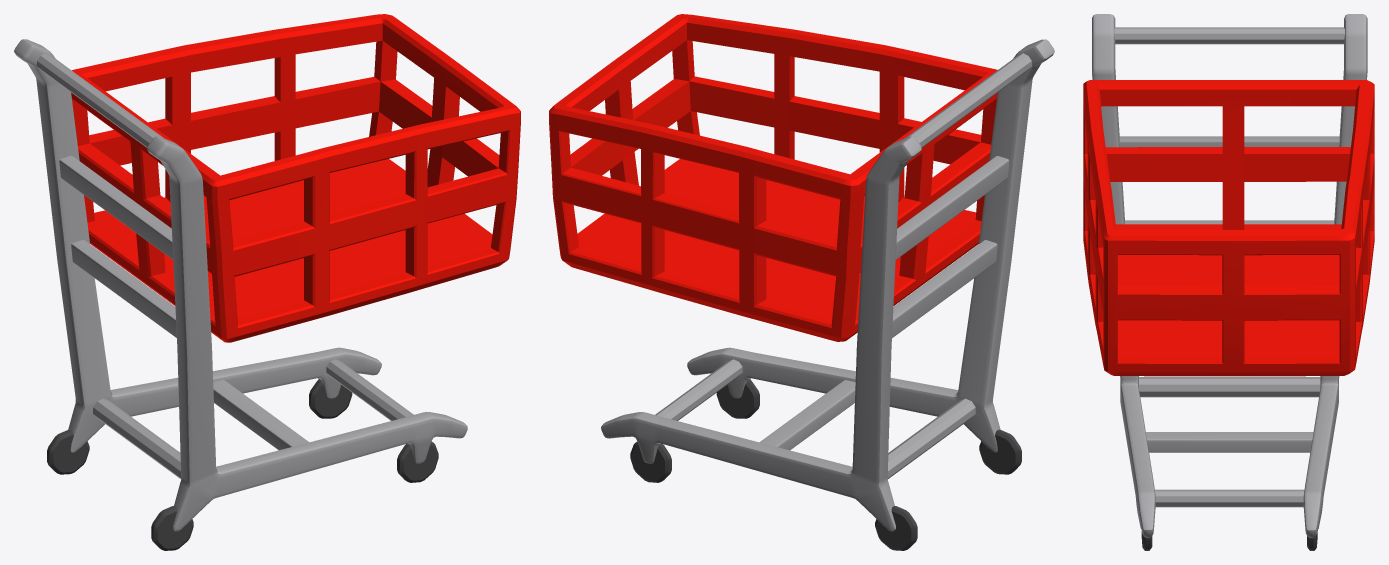
File: ShoppingCart.fbx
The picture shows the model from 3 angles, left to right: view 1: azimuth 30°, elevation 25°; view 2: azimuth 150°, elevation 25°; view 3: azimuth 270°, elevation 25°; orthographic projection. The views are drawn at different scales.
Parts seen in each view (by area): view 1: Cart_Body1, Wheels_Metal_Thing1_Railing, Wheels_Metal_Thing1_Wheels; view 2: Cart_Body1, Wheels_Metal_Thing1_Railing, Wheels_Metal_Thing1_Wheels; view 3: Cart_Body1, Wheels_Metal_Thing1_Railing.
Boxes of the visible parts, <box> form: Cart_Body1: <box>71,14,520,342</box>; Wheels_Metal_Thing1_Railing: <box>14,39,467,531</box>; Wheels_Metal_Thing1_Wheels: <box>47,379,438,550</box>; Cart_Body1: <box>549,14,997,341</box>; Wheels_Metal_Thing1_Railing: <box>601,39,1054,531</box>; Wheels_Metal_Thing1_Wheels: <box>630,379,1021,550</box>; Cart_Body1: <box>1083,80,1374,376</box>; Wheels_Metal_Thing1_Railing: <box>1092,14,1367,537</box>.
Size of the model in its own units: 2.74 by 3 by 1.96.
